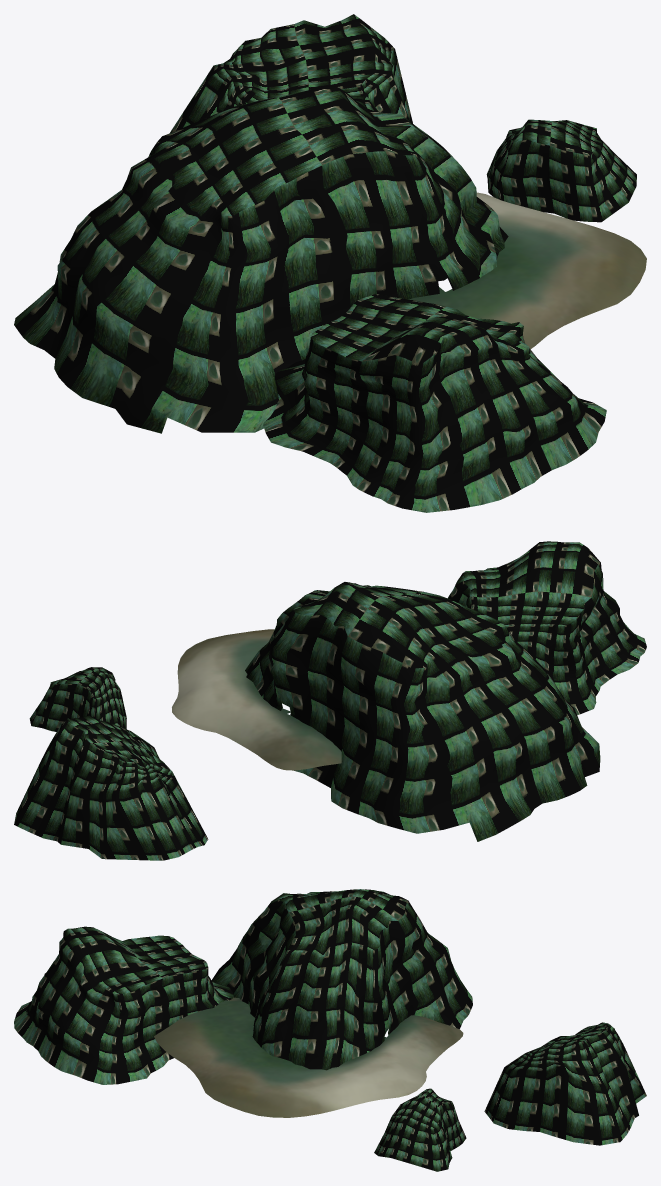
The model's file is pir_m_are_isl_cutthroat.fbx.
The picture shows the model from 3 angles, top to bottom: view 1: azimuth 30°, elevation 25°; view 2: azimuth 150°, elevation 25°; view 3: azimuth 270°, elevation 25°; orthographic projection. The views are drawn at different scales.
Parts seen in each view (by area): view 1: hill_3, hill_4, beach, hill_1, hill_2; view 2: hill_3, hill_1, hill_4, beach, hill_2; view 3: hill_3, hill_4, beach, hill_1, hill_2.
Boxes of the visible parts, x1,y1,x2,y2 form: hill_3: (14, 86, 508, 433); hill_4: (263, 294, 606, 512); beach: (408, 192, 646, 349); hill_1: (170, 14, 412, 132); hill_2: (486, 119, 636, 222); hill_3: (245, 582, 600, 841); hill_1: (14, 715, 208, 860); hill_4: (447, 541, 646, 715); beach: (172, 629, 341, 770); hill_2: (29, 667, 126, 731); hill_3: (211, 889, 472, 1070); hill_4: (14, 926, 233, 1084); beach: (154, 997, 463, 1117); hill_1: (484, 1022, 646, 1145); hill_2: (374, 1088, 466, 1171).
Bounding box in the file's own units: 178231 × 61726 × 226585.
2 materials, 2 textured.
